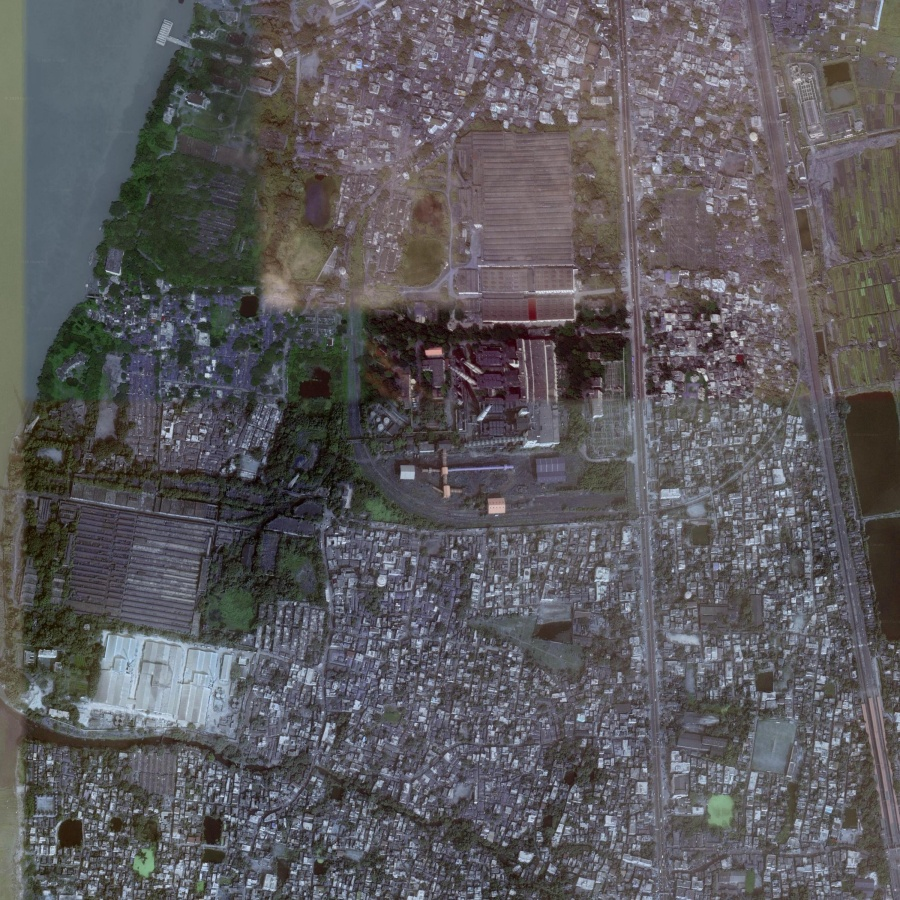PowerPlant: (354, 274, 599, 513)
